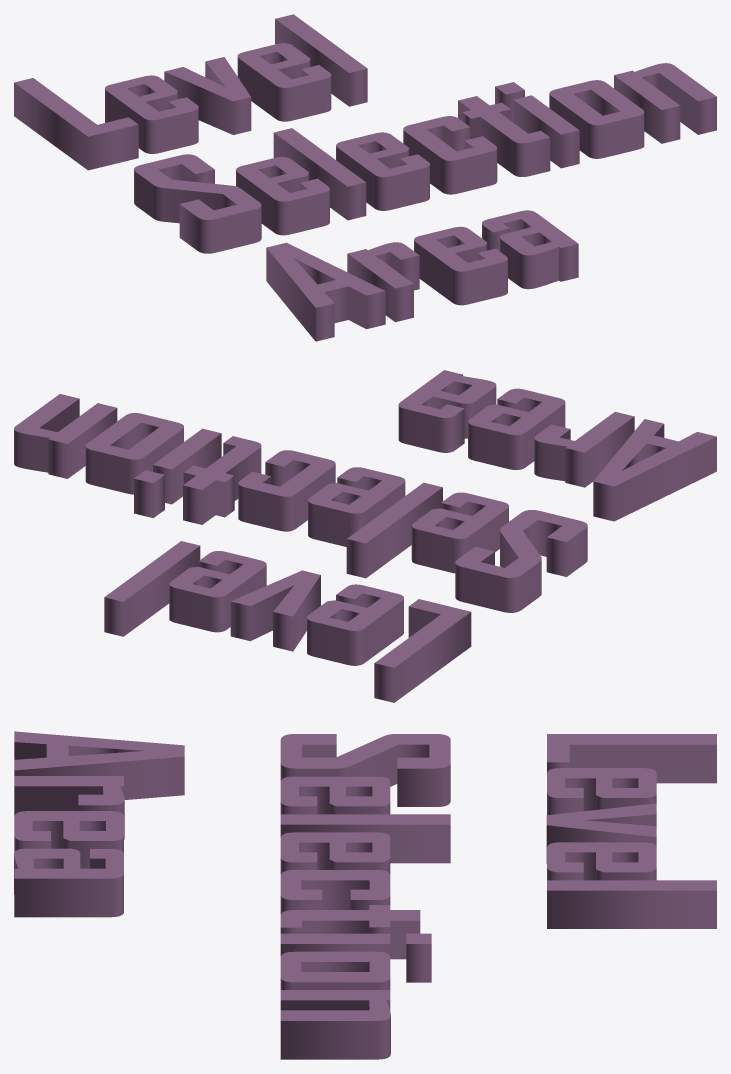
The model's file is LevelSelectArea.fbx.
3 views of the same model, one above another, from view 1: azimuth 30°, elevation 25°; view 2: azimuth 150°, elevation 25°; view 3: azimuth 270°, elevation 25° (orthographic). The views are drawn at different scales.
Visible parts, largest first — view 1: Text; view 2: Text; view 3: Text.
Part boxes in pixels (box(x1,y1,x2,y2)): Text: box(14, 14, 716, 341); Text: box(14, 370, 716, 702); Text: box(14, 731, 716, 1059).
Size of the model in its own units: 257 by 16 by 264.
